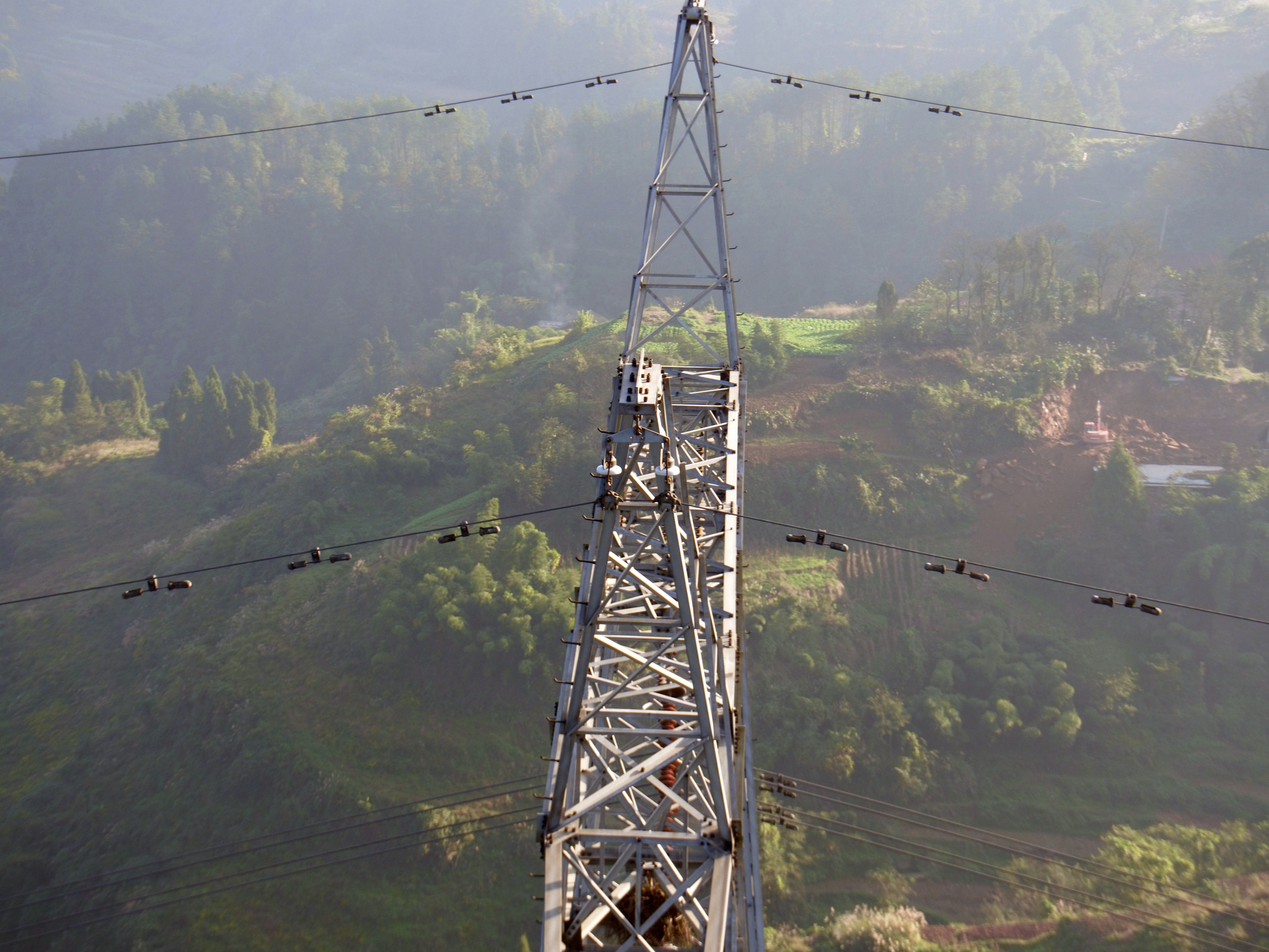damper_defect: (118, 570, 195, 603), (921, 553, 994, 587), (1089, 588, 1165, 619), (783, 525, 852, 556), (435, 517, 503, 547), (284, 544, 354, 573), (926, 103, 965, 119), (770, 74, 805, 90), (847, 89, 884, 104), (499, 90, 535, 105), (584, 74, 619, 89), (422, 104, 459, 118)
